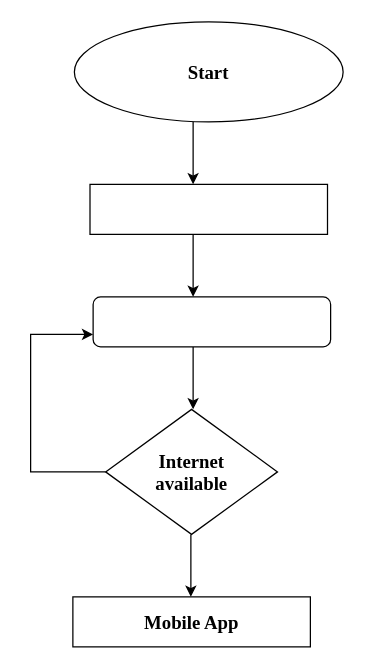
This 365x669 diagram has some shape labels left out. Here are the shapes that lost their labels. From the top down, the centre of each, then its label:
At [208,208]: "Initialize Sensor".
At [211,321]: "Arduino".
